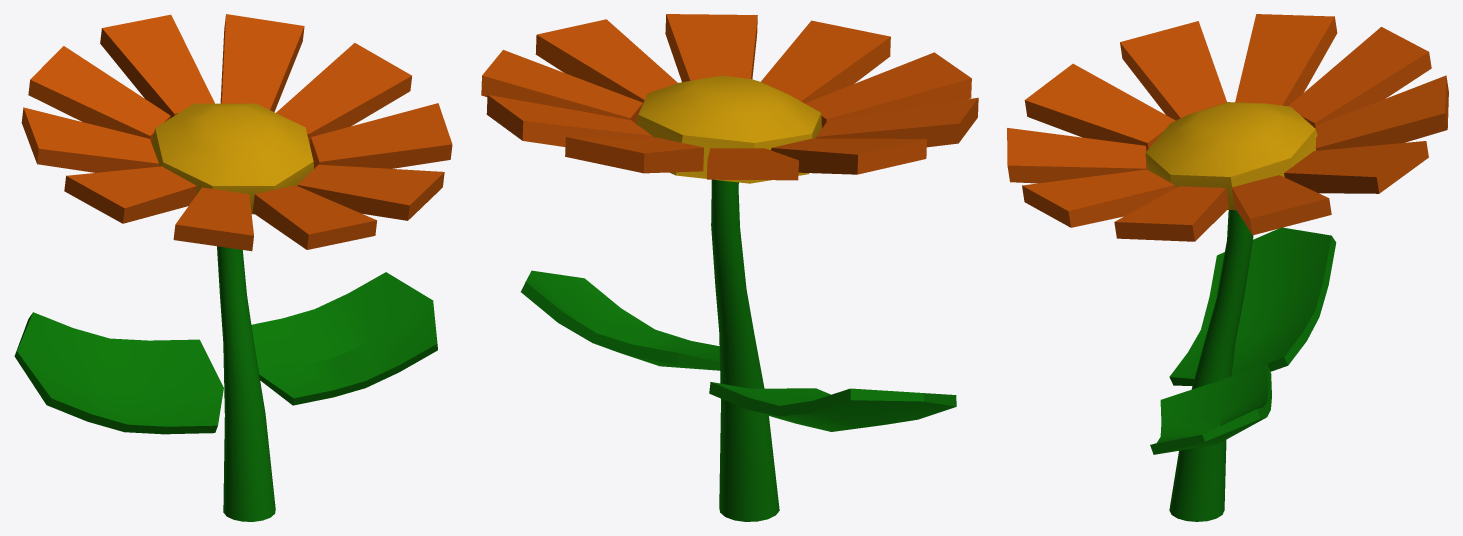
File: Flower_1.fbx
3 views of the same model, side by side, from view 1: azimuth 30°, elevation 25°; view 2: azimuth 150°, elevation 25°; view 3: azimuth 270°, elevation 25° (orthographic). The views are drawn at different scales.
Parts seen in each view (by area): view 1: Cylinder.002; view 2: Cylinder.002; view 3: Cylinder.002.
Boxes of the visible parts, x1,y1,x2,y2 form: Cylinder.002: (14, 14, 452, 521); Cylinder.002: (481, 14, 978, 521); Cylinder.002: (1007, 14, 1448, 521).
Bounding box in the file's own units: 163 × 165 × 157.
